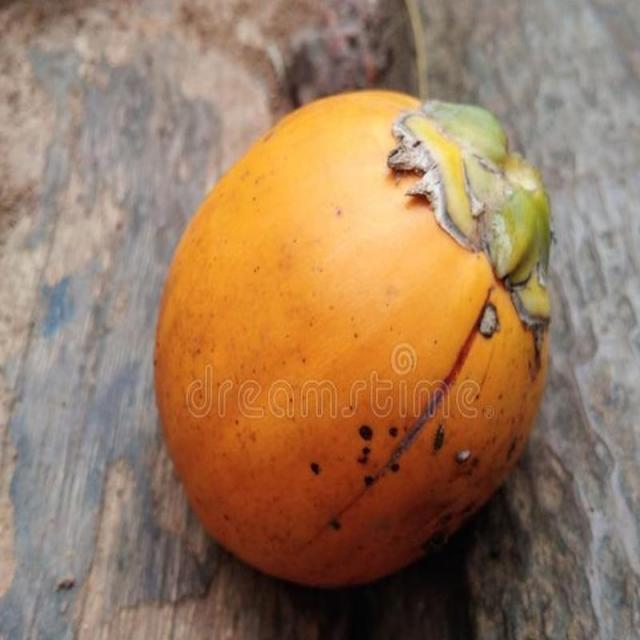good: (152, 90, 553, 593)
